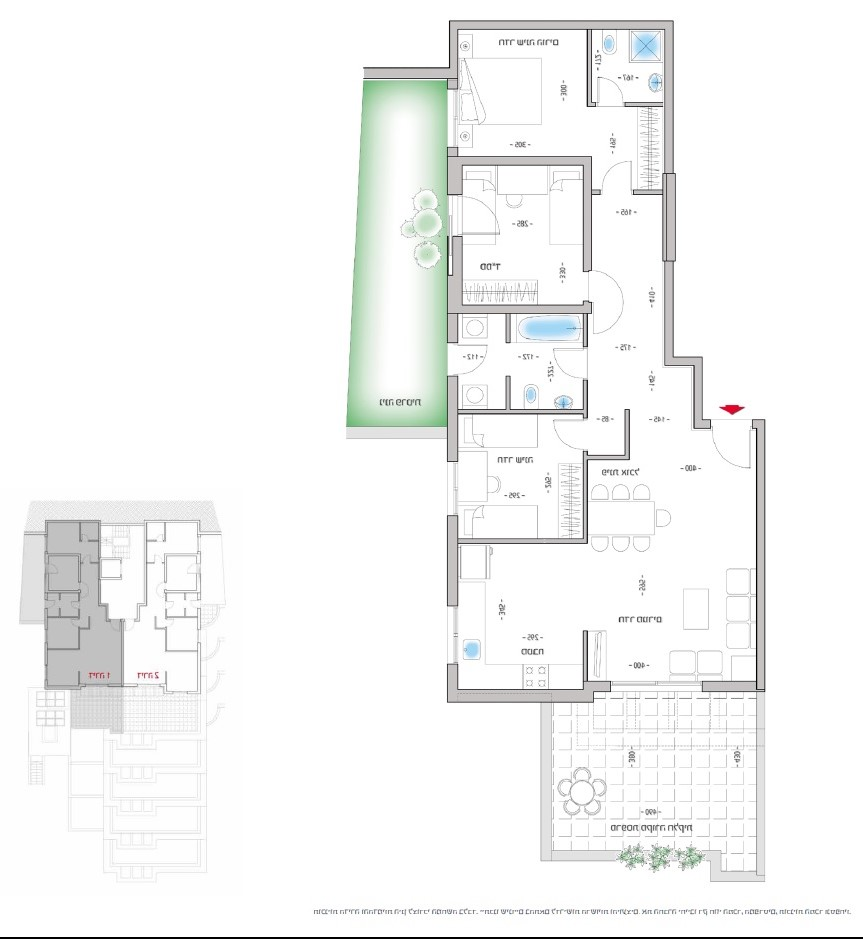wall: (441, 663, 508, 713), (755, 420, 765, 689), (446, 689, 589, 702), (449, 21, 664, 29), (664, 22, 673, 171), (447, 157, 591, 165), (448, 305, 586, 313), (446, 514, 457, 607), (664, 261, 673, 364), (447, 376, 457, 461), (452, 237, 462, 313), (693, 358, 703, 429), (456, 409, 586, 414), (457, 538, 586, 543), (584, 158, 589, 268), (703, 681, 755, 691), (449, 20, 457, 80), (583, 451, 587, 539)
